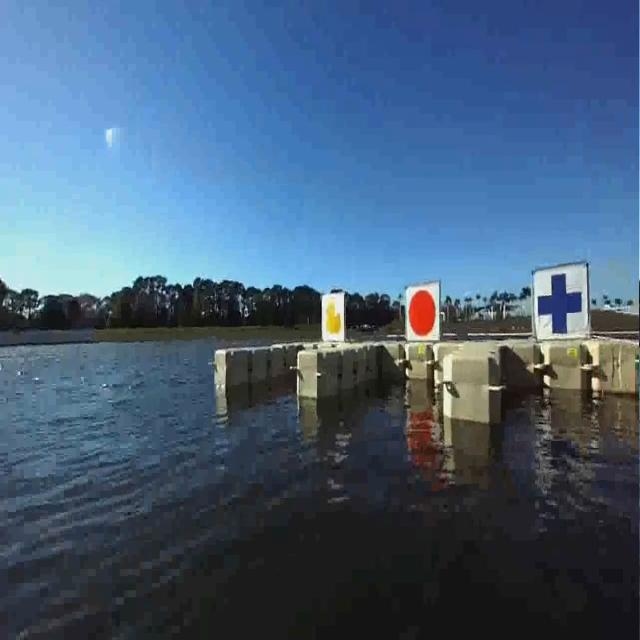blue-cross: (531, 270, 589, 338)
red-dot: (405, 282, 441, 338)
yellow-duck: (320, 292, 345, 343)
